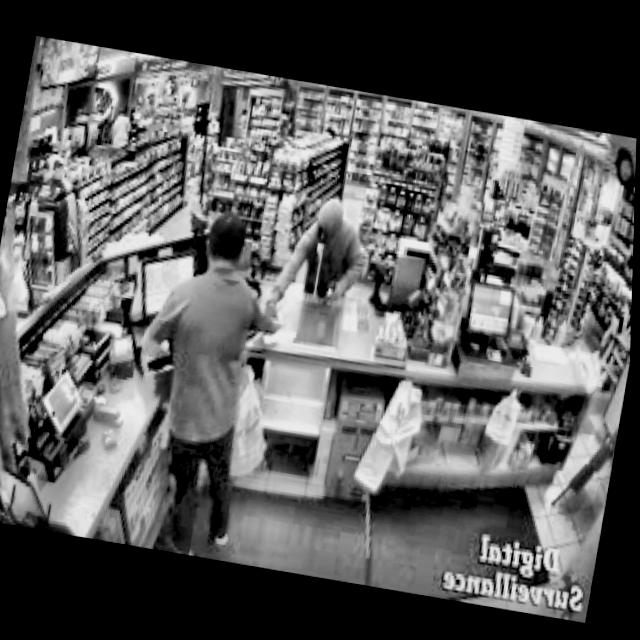robbery: (266, 184, 380, 320)
